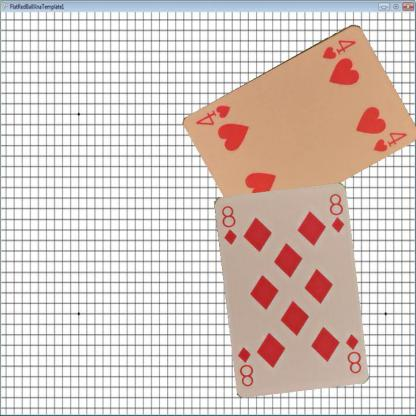4h: (320, 36, 358, 61)
8d: (218, 203, 238, 246), (343, 331, 362, 374)
